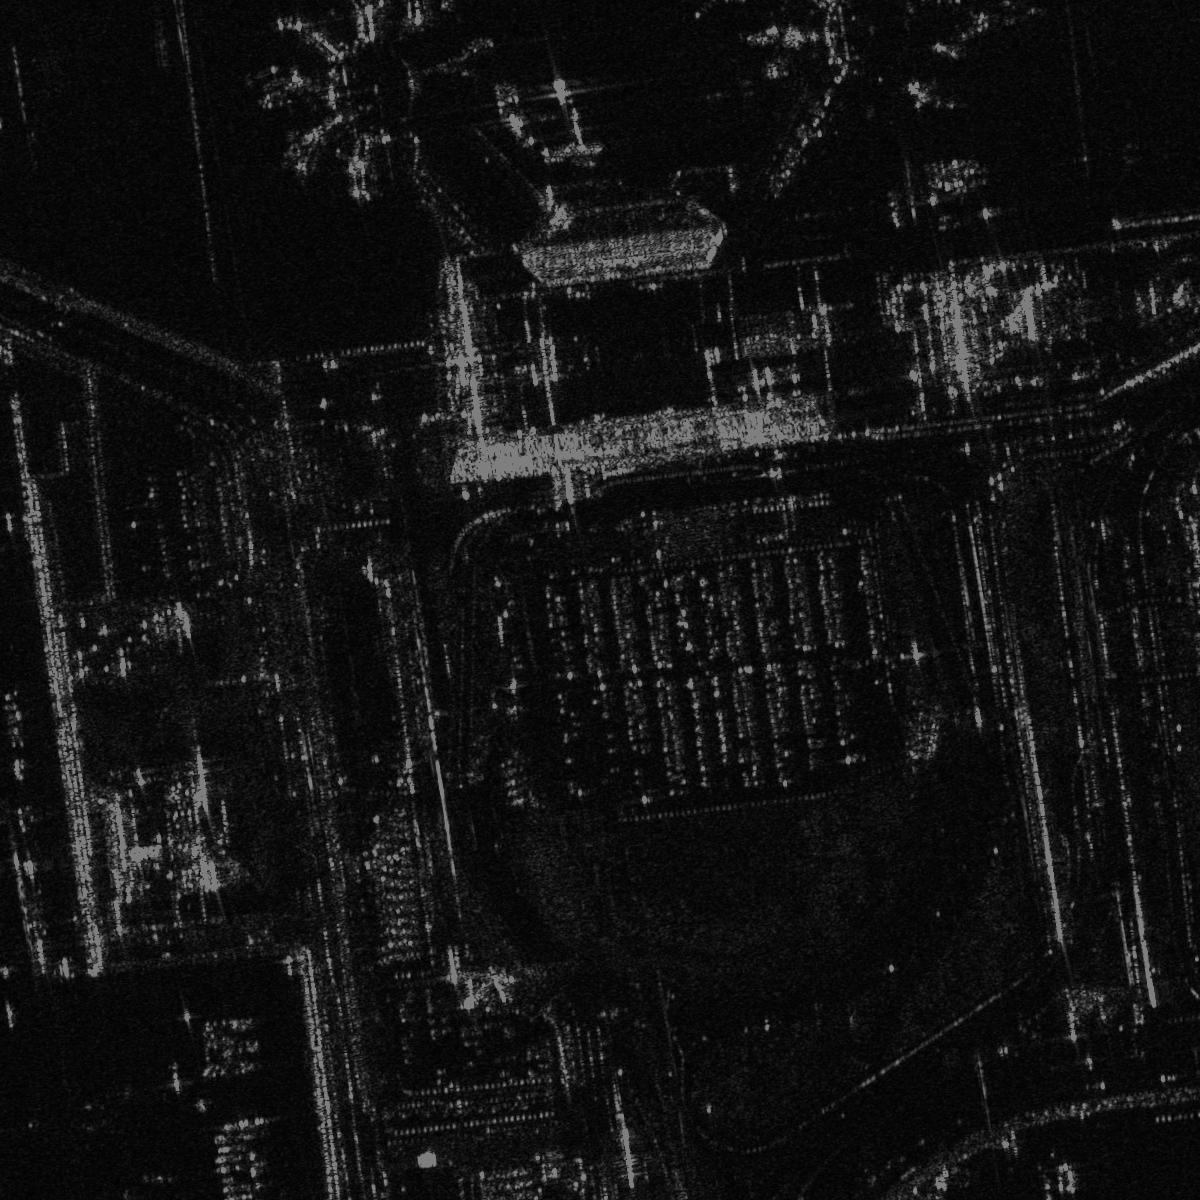A220: (712, 69, 757, 110)
